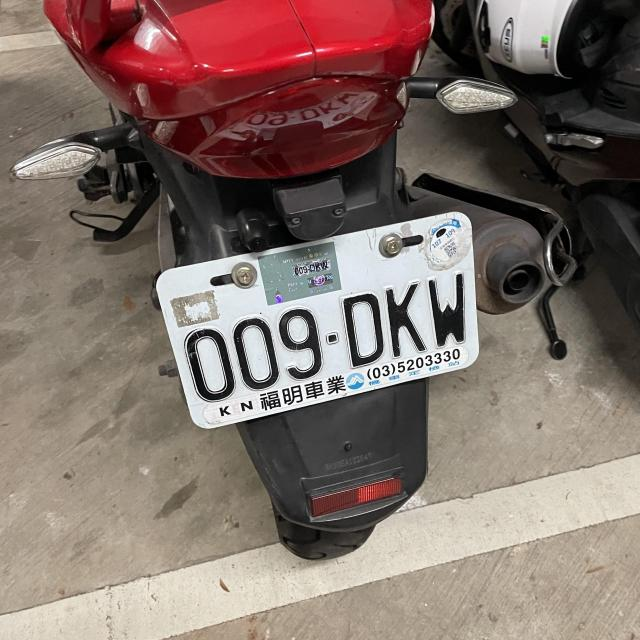W: (148, 215, 490, 433)
